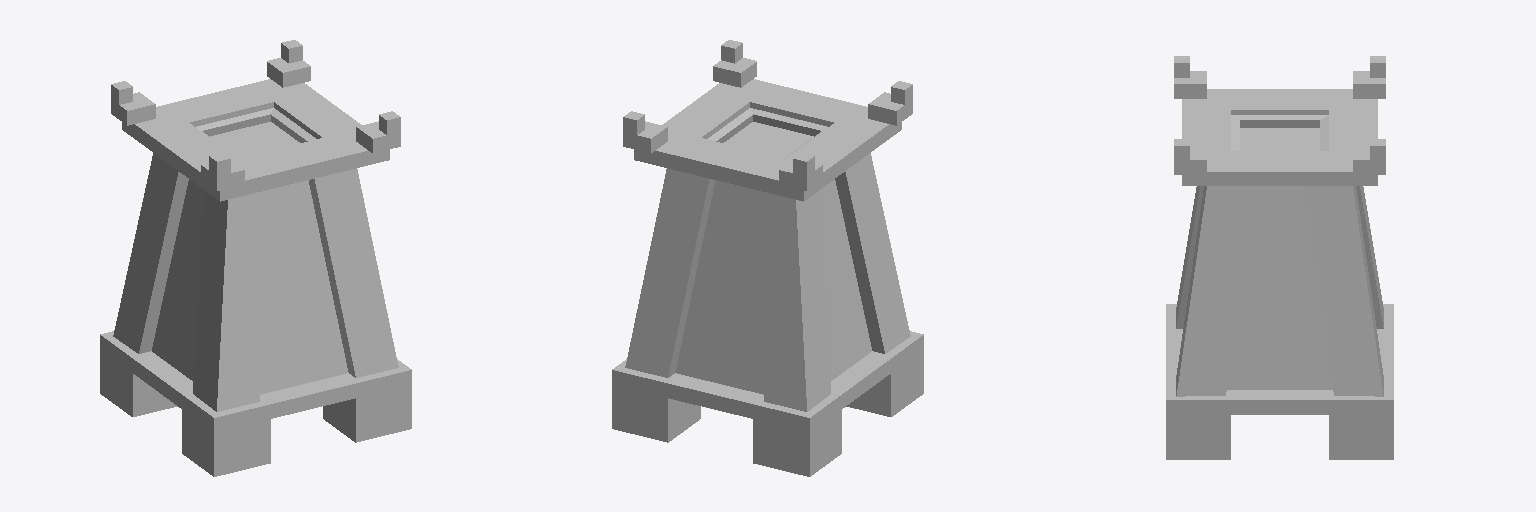
Rendered from blockincensealtar.obj.
The picture shows the model from 3 angles: view 1: azimuth 30°, elevation 25°; view 2: azimuth 150°, elevation 25°; view 3: azimuth 270°, elevation 25°; orthographic projection.
Parts seen in each view (by area): view 1: BlockIncenseAltar_(1); view 2: BlockIncenseAltar_(1); view 3: BlockIncenseAltar_(1).
Boxes of the visible parts, <box> form: BlockIncenseAltar_(1): <box>100,40,411,476</box>; BlockIncenseAltar_(1): <box>612,40,923,476</box>; BlockIncenseAltar_(1): <box>1166,56,1393,459</box>.
Size of the model in its own units: 0.7437 by 1.12 by 0.7437.